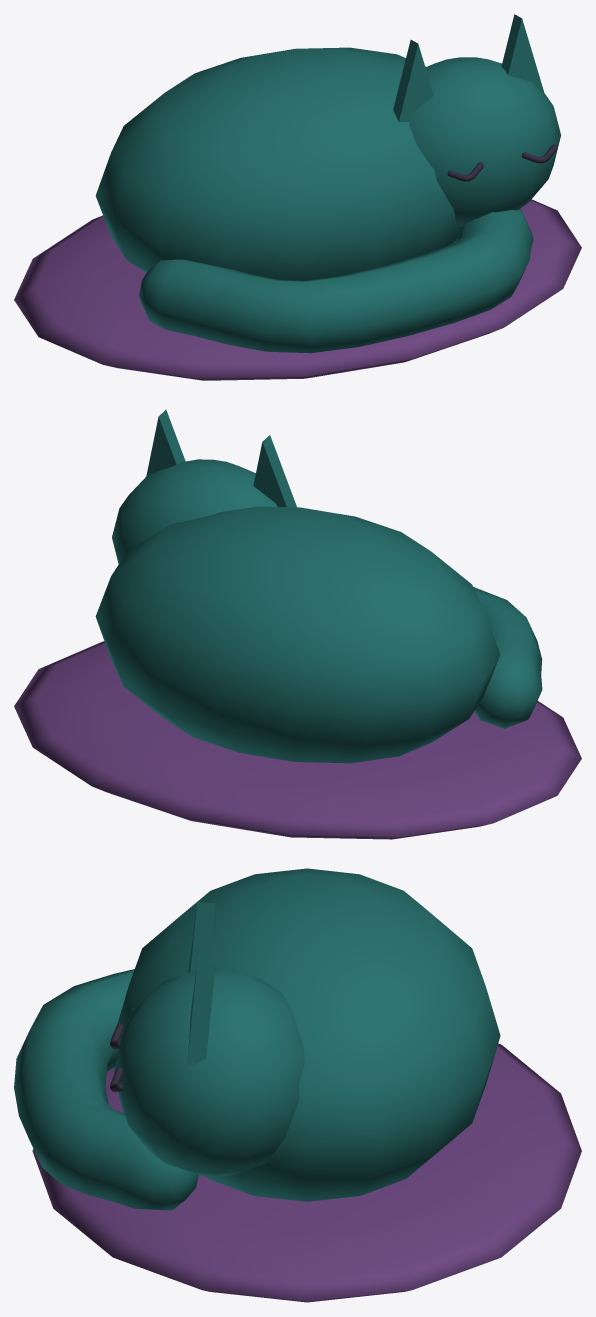
File: sleeping_cat.glb
3 renders of one model, top to bottom at view 1: azimuth 30°, elevation 25°; view 2: azimuth 150°, elevation 25°; view 3: azimuth 270°, elevation 25°, orthographic. The views are drawn at different scales.
Visible parts, largest first — view 1: Curled_body, Tail, Cushion, Head, Ear, Ear.001; view 2: Curled_body, Cushion, Head, Tail, Ear, Ear.001; view 3: Curled_body, Cushion, Head, Tail, Ear.001, Ear.
Part boxes in pixels (box(x1,y1,x2,y2)): Curled_body: box(95, 47, 461, 280); Tail: box(139, 209, 533, 353); Cushion: box(14, 199, 581, 380); Head: box(409, 57, 560, 226); Ear: box(393, 40, 433, 121); Ear.001: box(501, 14, 544, 94); Curled_body: box(95, 506, 500, 763); Cushion: box(14, 641, 581, 839); Head: box(112, 459, 277, 563); Tail: box(473, 587, 542, 728); Ear: box(253, 435, 296, 507); Ear.001: box(146, 410, 185, 475); Curled_body: box(117, 868, 500, 1201); Cushion: box(32, 1043, 581, 1302); Head: box(114, 967, 304, 1176); Tail: box(14, 969, 198, 1210); Ear.001: box(187, 962, 215, 1065); Ear: box(188, 902, 215, 972).
Bounding box in the file's own units: 0.7 × 0.3518 × 0.5581.
